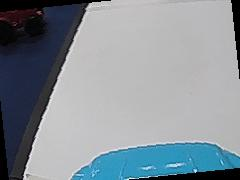Tracktor: (0, 4, 45, 39)
